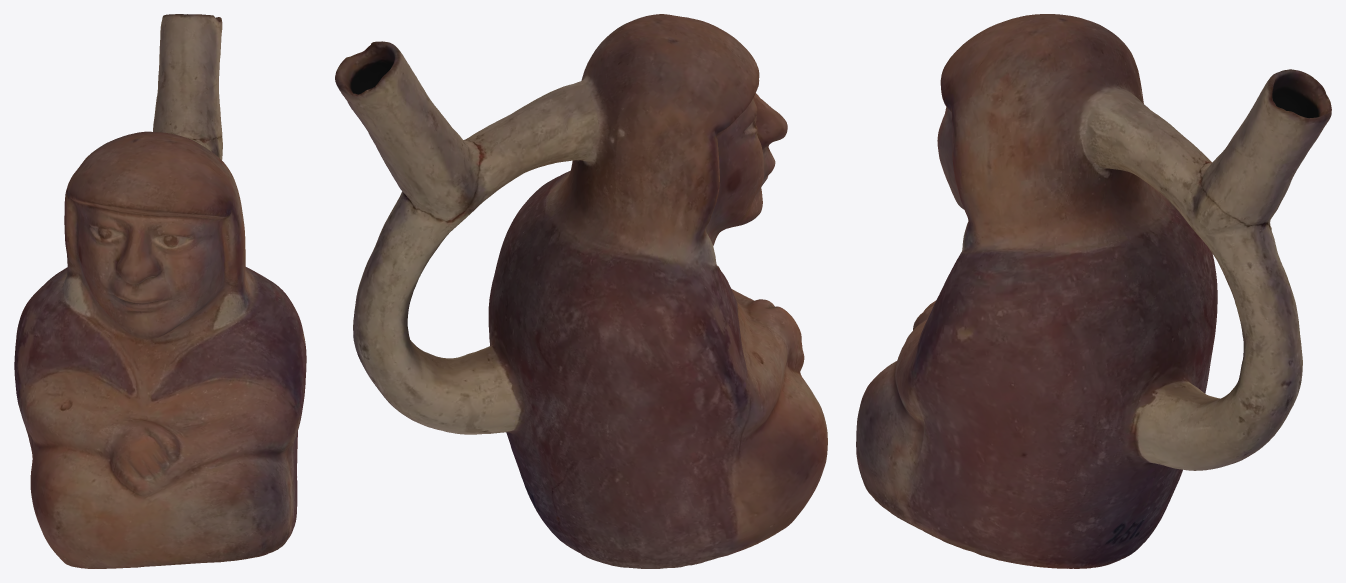
Rendered from preview.glb.
The picture shows the model from 3 angles, left to right: view 1: azimuth 30°, elevation 25°; view 2: azimuth 150°, elevation 25°; view 3: azimuth 270°, elevation 25°; orthographic projection. The views are drawn at different scales.
Visible parts, largest first — view 1: Object_2; view 2: Object_2; view 3: Object_2.
Boxes of the visible parts, bbox=[...] form: Object_2: bbox=[14, 14, 306, 568]; Object_2: bbox=[335, 14, 827, 568]; Object_2: bbox=[856, 14, 1331, 568].
Size of the model in its own units: 145 by 212 by 171.
Materials: 1 (1 with a texture image).
